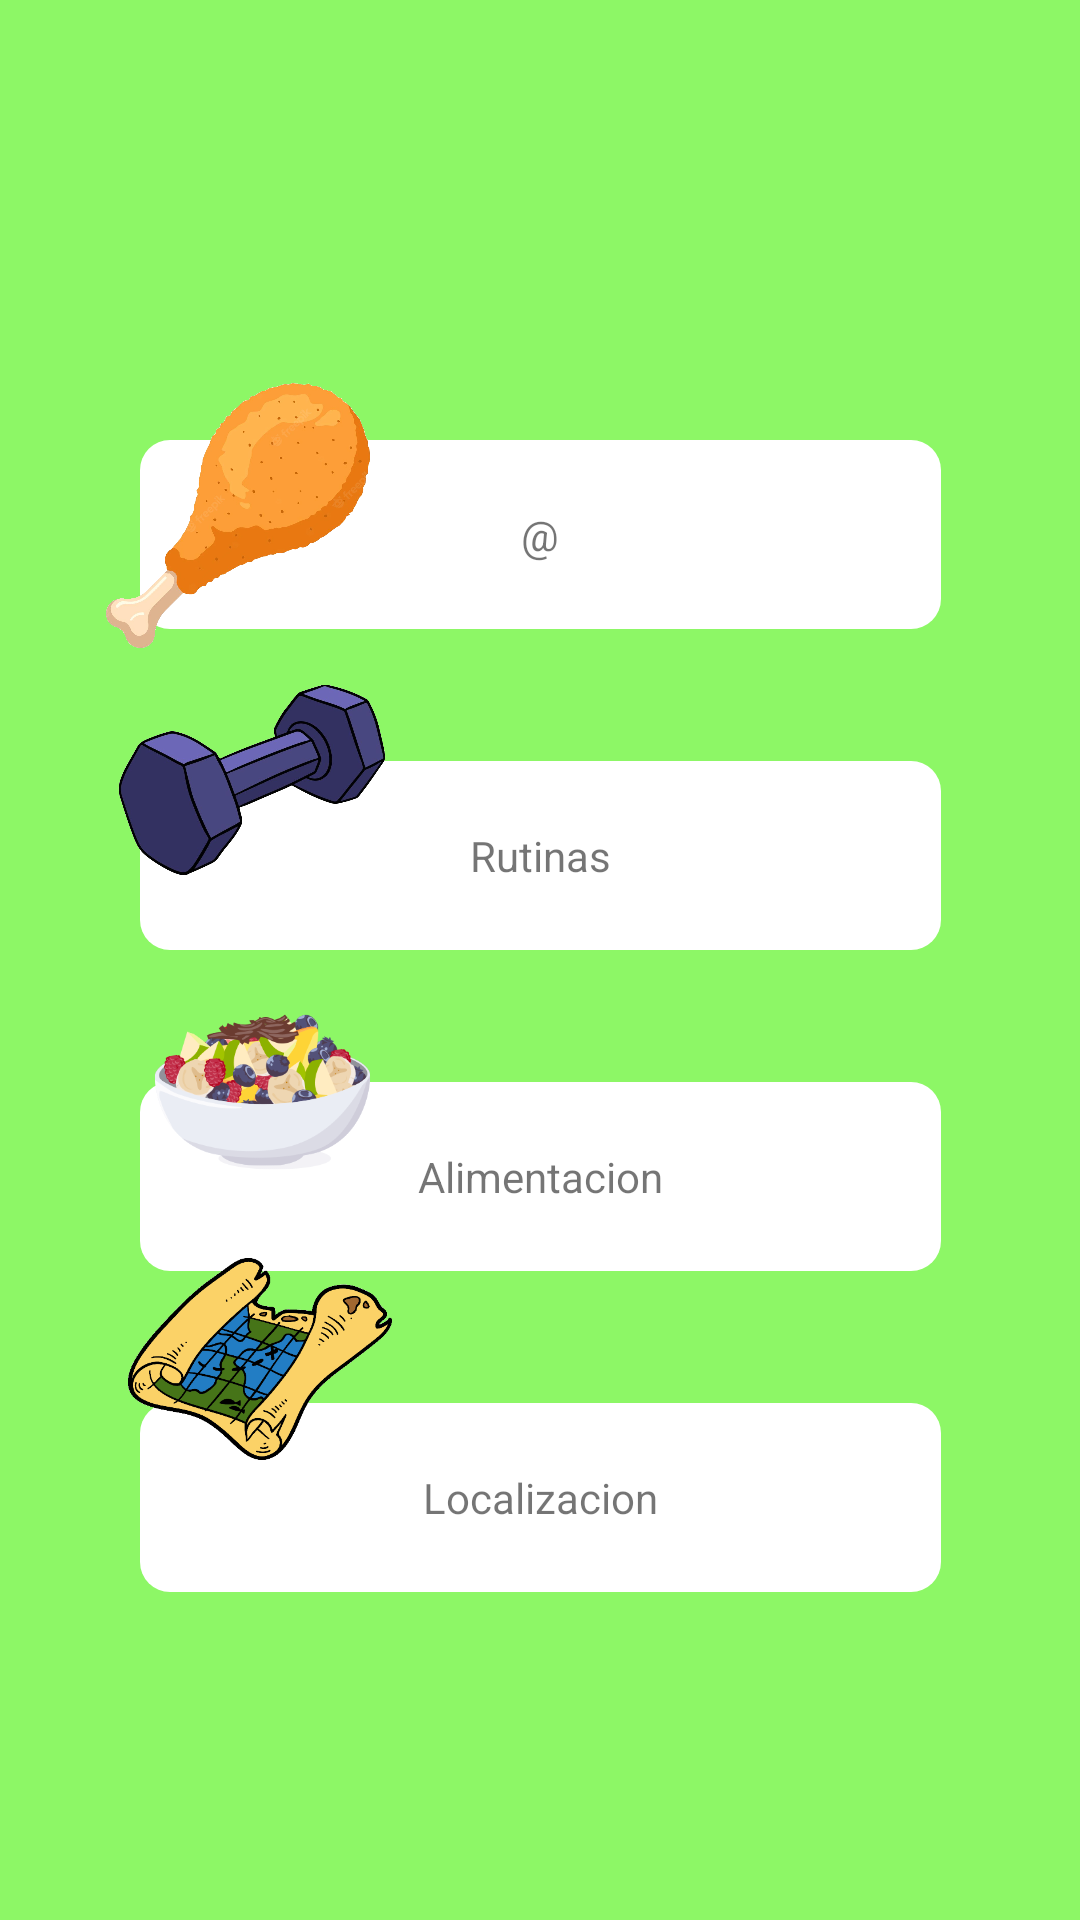

Where to tap for icons on this 1080 × 1920 app screen, as point (x, y):
dumbells: point (257, 780)
mapa: point (260, 1359)
muslito: point (238, 515)
